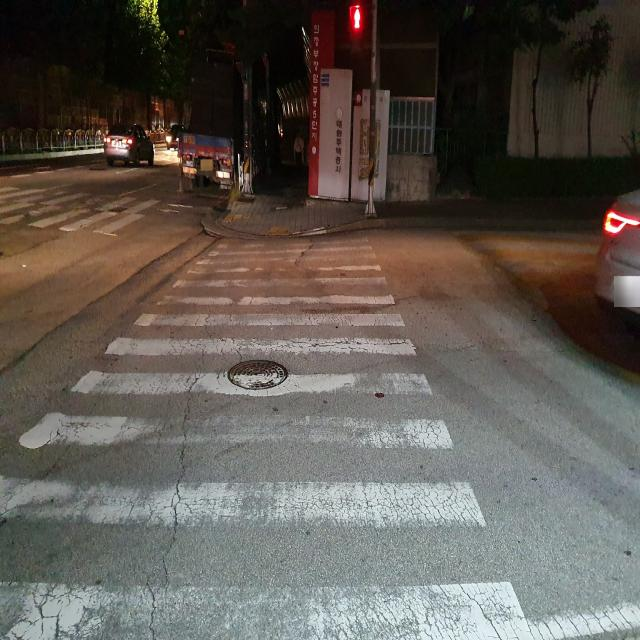빨간불: (347, 8, 367, 69)
횡단보도: (0, 236, 535, 640)
